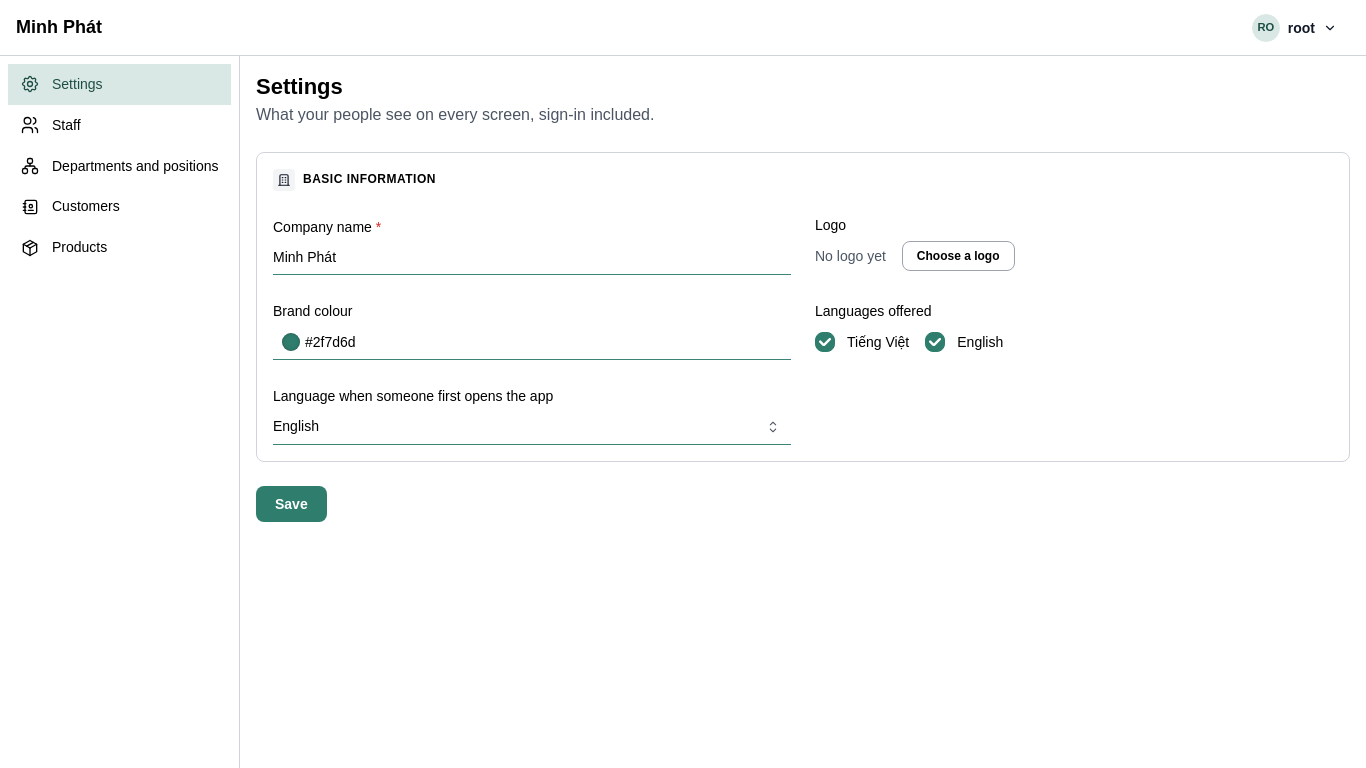
it: the app › With both languages each user switches in their menu, kept on that device
Check: the text "Settings" is shown, box [52,76,103,92]
Click the button "RO root".
click(1294, 28)  # box [1239,10,1350,46]
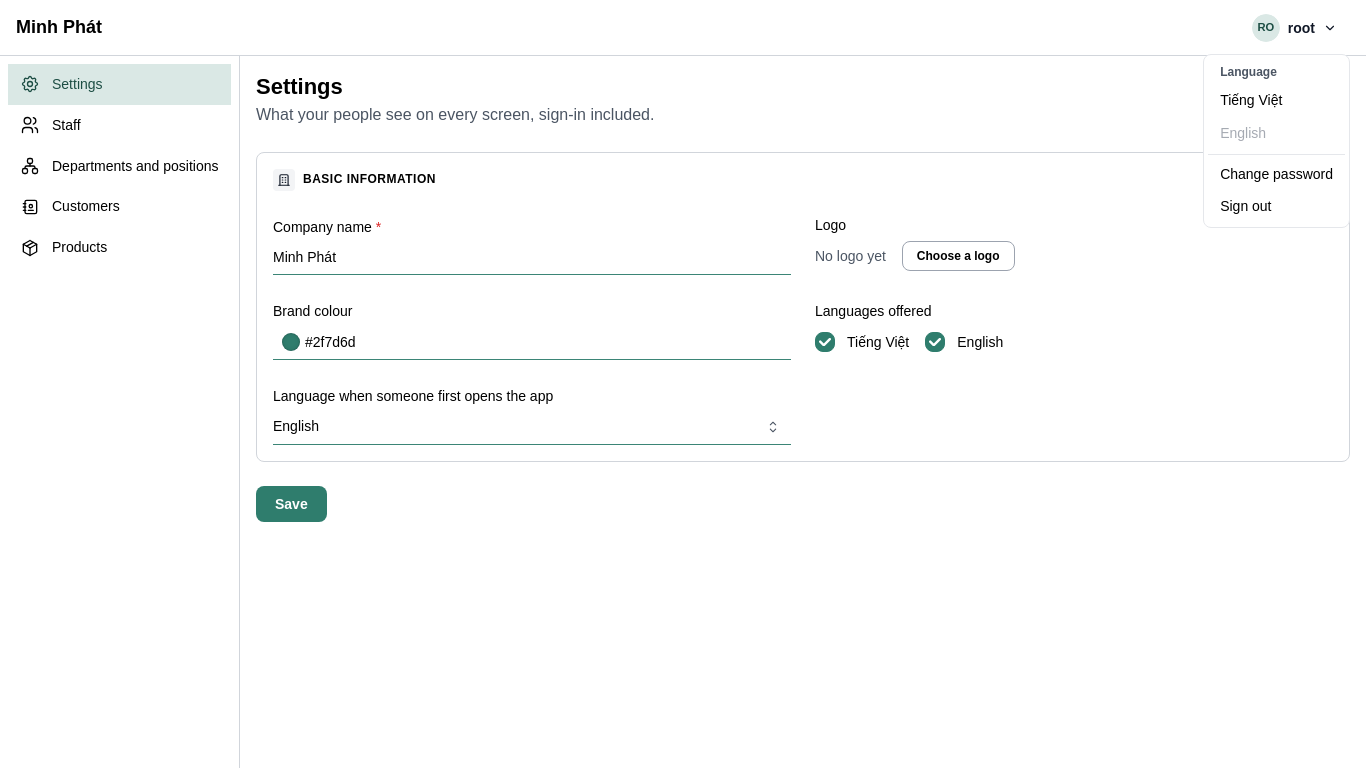
Click the menu item "Tiếng Việt".
click(1277, 101)  # box [1208,85,1345,117]
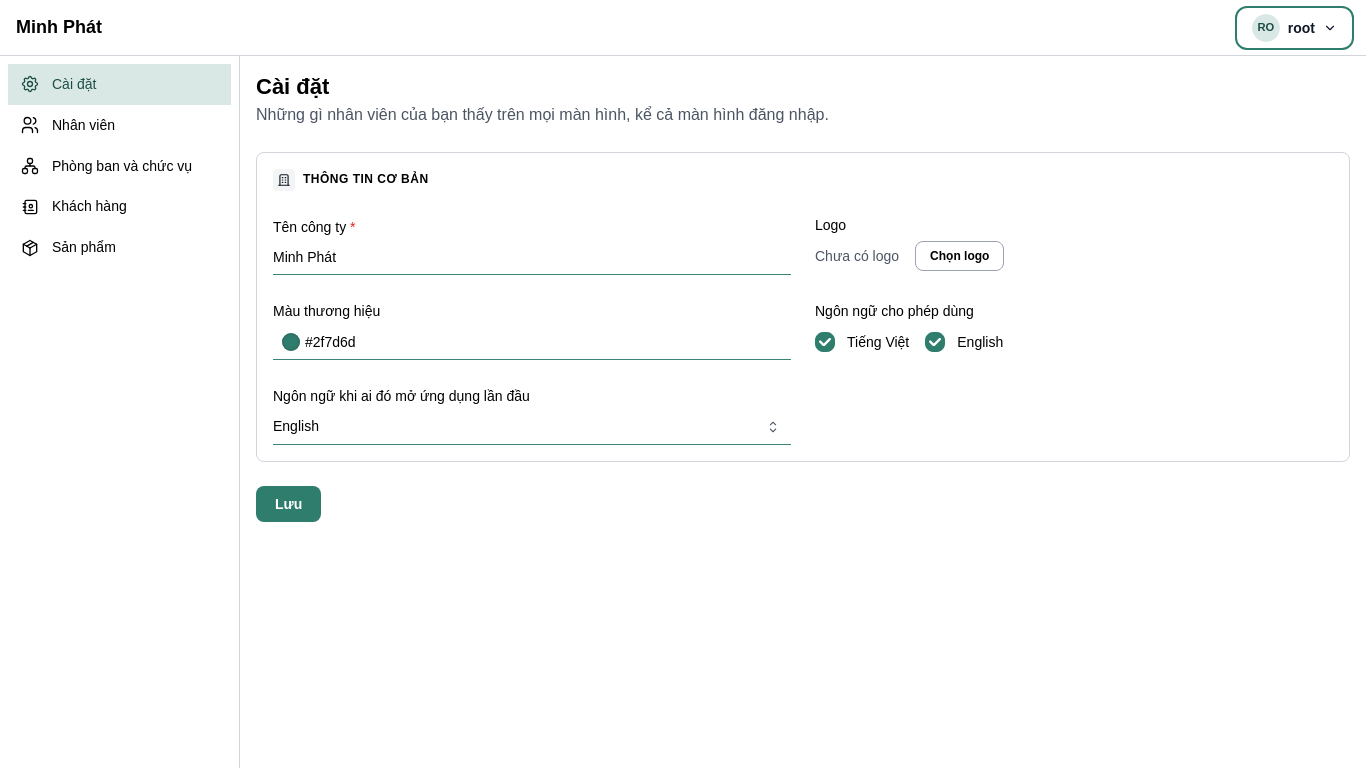
Check: the text "Cài đặt" is shown, box [52,76,96,92]
